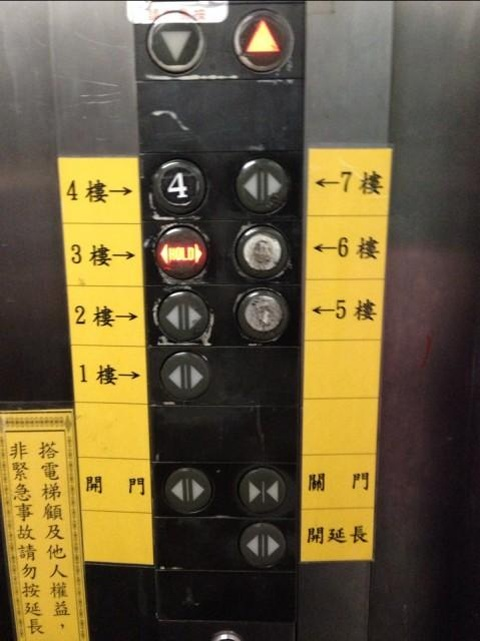4: (151, 155, 207, 217)
blur: (232, 222, 292, 282), (231, 286, 291, 346)
close: (235, 464, 290, 517)
down: (146, 9, 206, 74)
open: (232, 155, 294, 219), (158, 347, 213, 404), (156, 288, 210, 344), (237, 519, 292, 571), (159, 464, 214, 515)
text_blur: (151, 221, 212, 286)
up: (230, 9, 297, 75)
